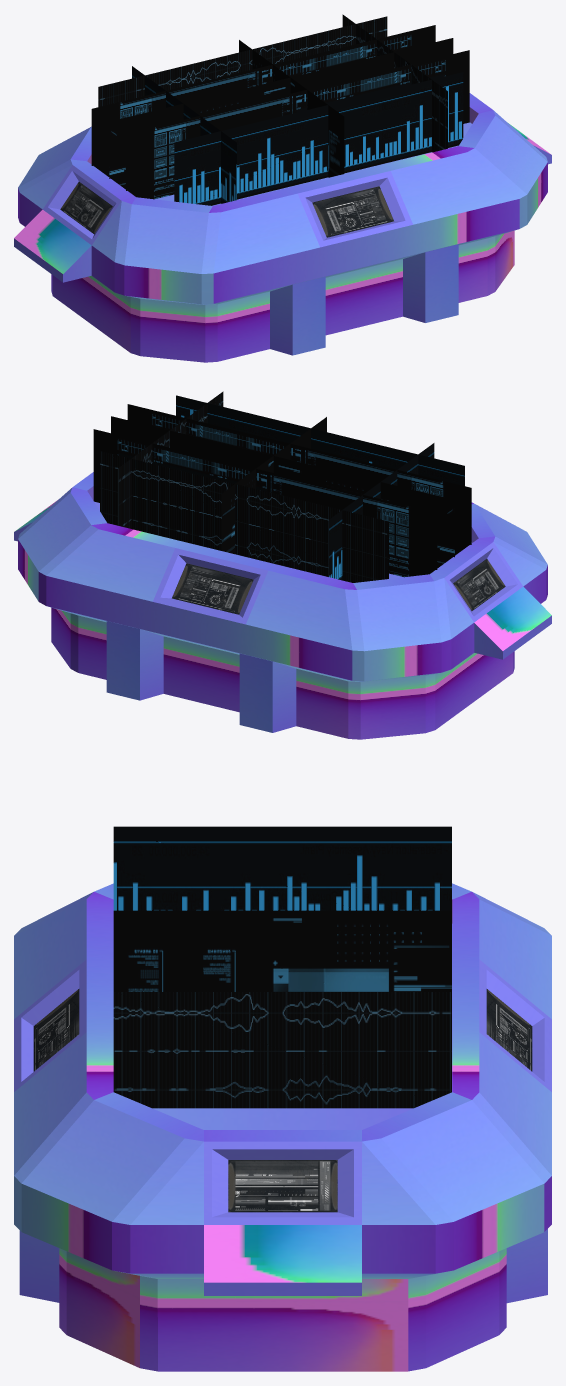
File: mainCP.FBX
3 renders of one model, top to bottom at view 1: azimuth 30°, elevation 25°; view 2: azimuth 150°, elevation 25°; view 3: azimuth 270°, elevation 25°, orthographic. The views are drawn at different scales.
Visible parts, largest first — view 1: mainCP; view 2: mainCP; view 3: mainCP.
Part boxes in pixels (x1,y1,x2,y2): mainCP: (14,14,551,362); mainCP: (14,391,551,739); mainCP: (14,826,551,1371).
Bounding box in the file's own units: 171 × 65.96 × 101.
